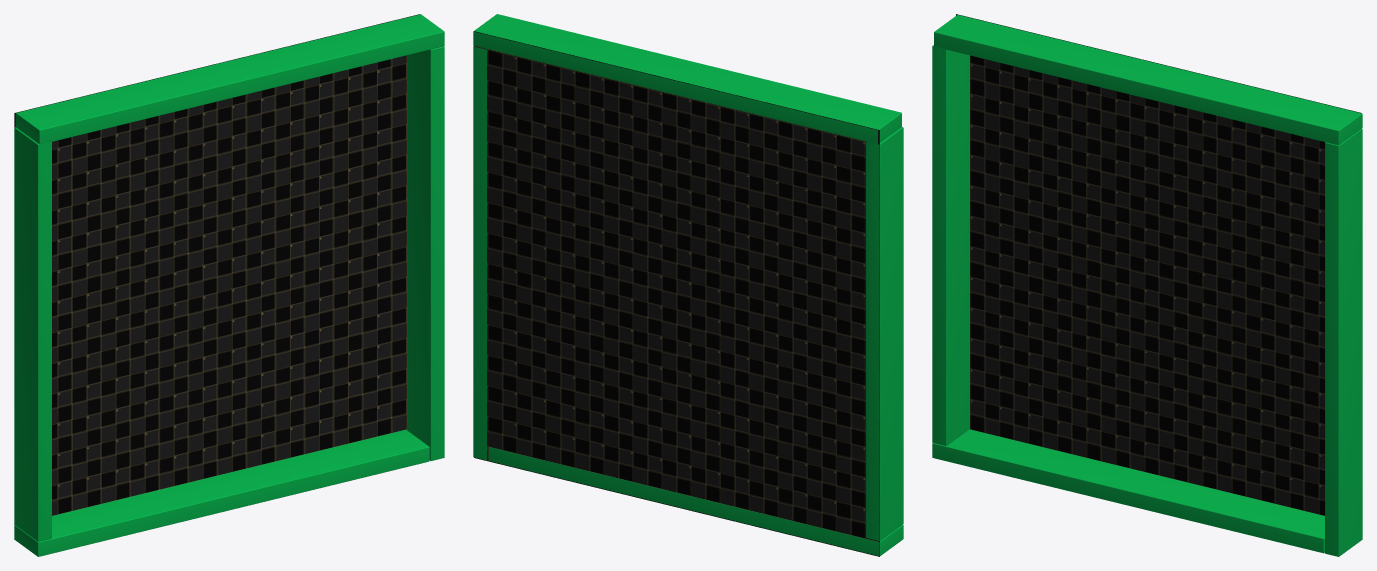
Rendered from test_level1.obj.
3 views of the same model, side by side, from view 1: azimuth 30°, elevation 25°; view 2: azimuth 150°, elevation 25°; view 3: azimuth 330°, elevation 25° (orthographic).
Visible parts, largest first — view 1: Plane, Cube.006, Cube.007; view 2: Plane, Cube.006, Cube.007; view 3: Plane, Cube.006, Cube.007.
Boxes of the visible parts, bbox=[...] form: Plane: bbox=[14, 14, 419, 525]; Cube.006: bbox=[14, 14, 444, 541]; Cube.007: bbox=[14, 429, 429, 556]; Plane: bbox=[474, 31, 879, 556]; Cube.006: bbox=[473, 14, 903, 540]; Cube.007: bbox=[488, 447, 903, 556]; Plane: bbox=[956, 14, 1361, 515]; Cube.006: bbox=[932, 15, 1362, 556]; Cube.007: bbox=[932, 429, 1324, 553].
Size of the model in its own units: 60.1 by 60.26 by 6.1.
